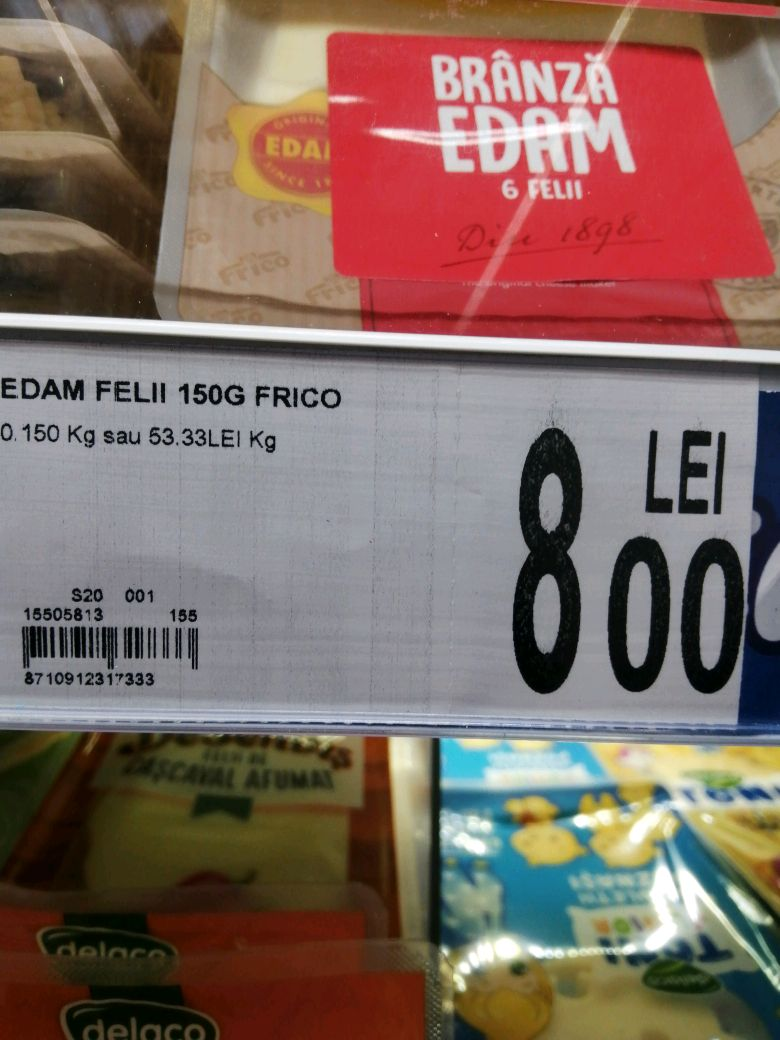price_bani: (603, 531, 751, 708)
price_lei: (499, 412, 592, 708)
price_tag: (1, 333, 766, 738)
product_id: (14, 666, 168, 694)
product_name: (1, 365, 359, 416)
